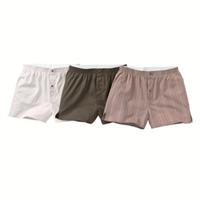mutande: (101, 65, 190, 128), (55, 64, 126, 123), (9, 64, 67, 122)
